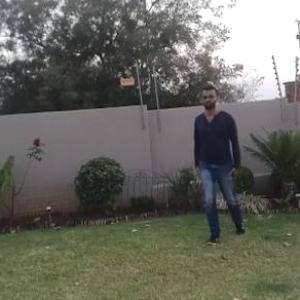follow: (193, 88, 241, 230)
